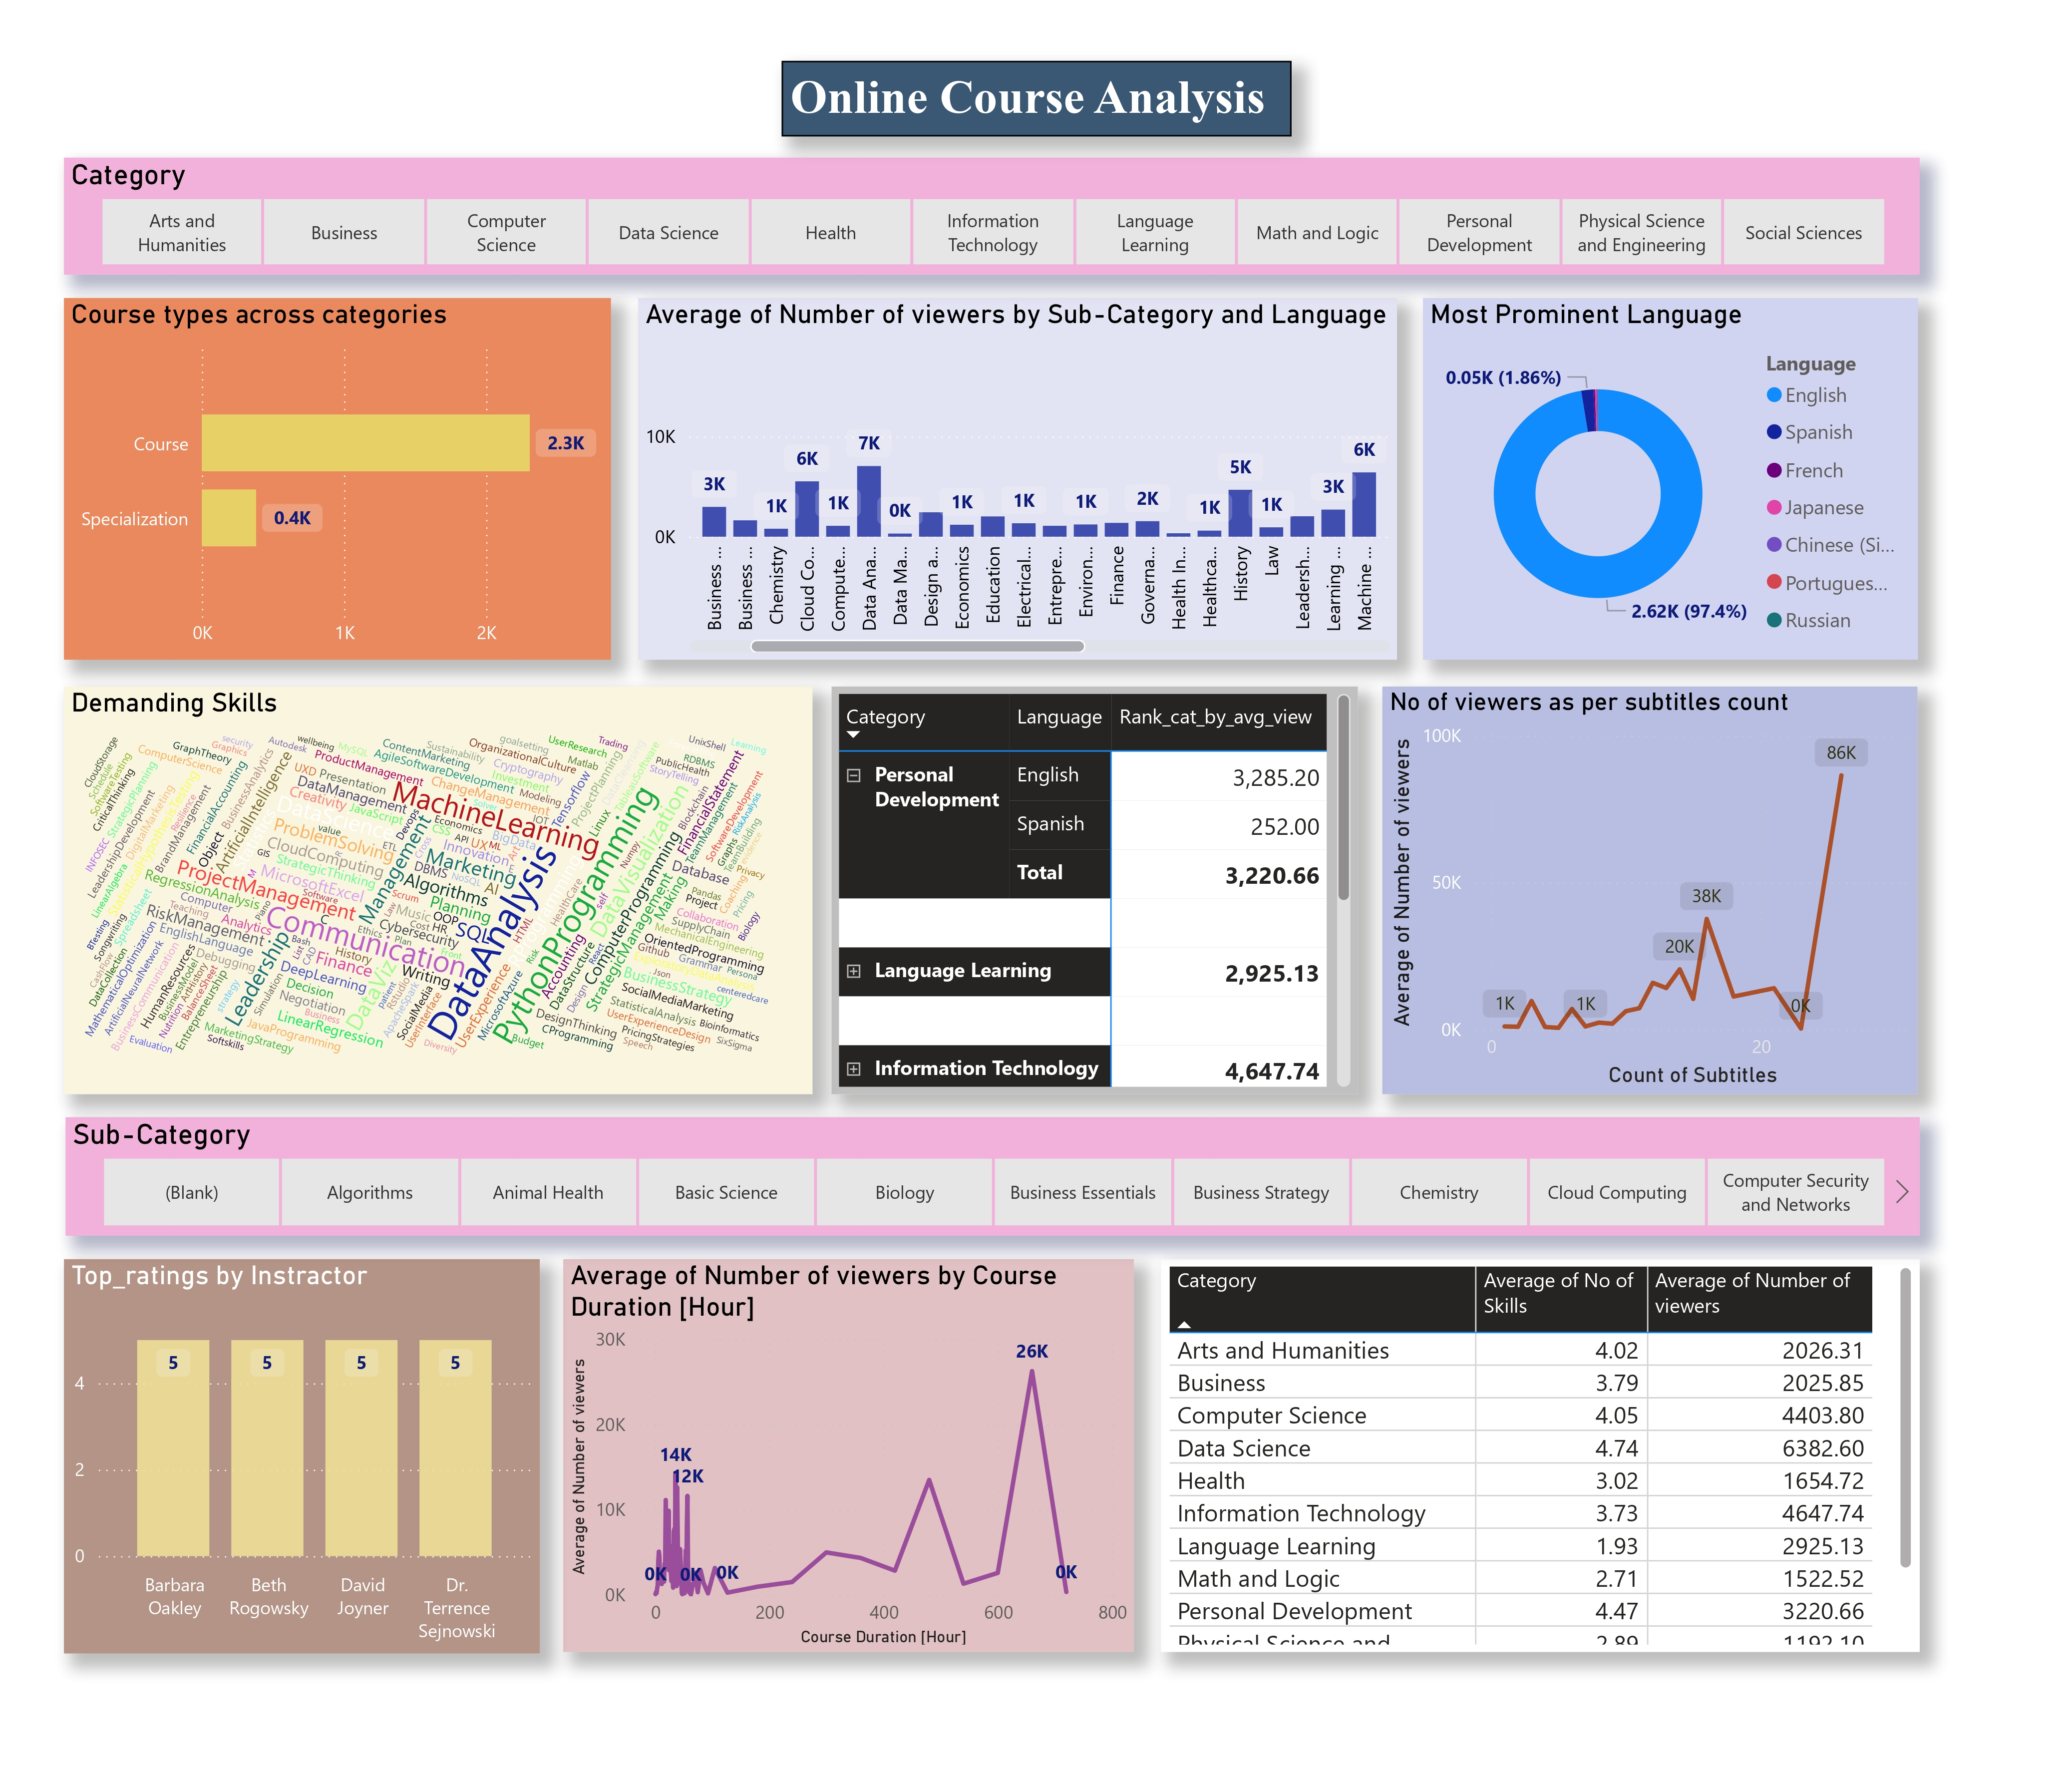

What the dashboard file says about the page in this screenshot:
{"tool":"powerbi","page":{"name":"Page 1","canvas":[1280,1100],"ordinal":0},"visuals":[{"type":"textbox","box":[502.6,15.6,343.7,50.9],"z":0},{"type":"slicer","title":"Category","fields":{"Values":["Online_Courses.Category"]},"box":[17.9,81.1,1251.6,78.9],"z":1000},{"type":"barChart","title":"Course types across categories ","fields":{"Category":["Online_Courses.Course Type"],"Y":["CountNonNull(Online_Courses.course id)"]},"box":[17.9,175.8,369.5,244.2],"z":2000},{"type":"columnChart","title":"Average of Number of viewers by Sub-Category and Language","fields":{"Category":["Online_Courses.Sub-Category","Online_Courses.Language"],"Y":["Avg(Online_Courses.Number of viewers)"]},"box":[404.9,175.5,511.9,244],"z":3000},{"type":"WordCloud1447959067750","title":"Demanding Skills","fields":{"Category":["Online_Courses.Skills"]},"box":[17.9,437.9,505.3,274.7],"z":4000},{"type":"donutChart","title":"Most Prominent Language","fields":{"Category":["Online_Courses.Language"],"Y":["CountNonNull(Online_Courses.course id)"]},"box":[934.5,175.5,334.3,244],"z":5000},{"type":"pivotTable","fields":{"Rows":["Online_Courses.Category","Online_Courses.Language"],"Values":["Online_Courses.Rank_cat_by_avg_view"]},"box":[535.8,437.9,354.7,274.7],"z":6000},{"type":"lineChart","title":"No of viewers as per subtitles count","fields":{"Category":["Online_Courses.Count of Subtitles"],"Y":["Avg(Online_Courses.Number of viewers)","select"]},"box":[907.4,437.9,361.1,274.7],"z":7000},{"type":"slicer","title":"Sub-Category ","fields":{"Values":["Online_Courses.Sub-Category"]},"box":[18.9,728.4,1250.5,80],"z":8000},{"type":"clusteredColumnChart","fields":{"Category":["Teachers.Instractor"],"Y":["Teachers.Top_ratings"]},"box":[17.9,824.2,321.1,266.3],"z":9000},{"type":"lineChart","fields":{"Category":["Online_Courses.Course Duration [Hour]"],"Y":["Avg(Online_Courses.Number of viewers)"]},"box":[354.7,824.2,385.3,265.3],"z":10000},{"type":"tableEx","fields":{"Values":["Online_Courses.Category","Online_Courses.No of Skills","Online_Courses.Number of viewers"]},"box":[757.9,824.2,511.6,265.3],"z":11000}]}

Visuals, with their boxes on the page's 1280x1100 design canvas (x1, y1, x2, y2). These are canvas units, not pixel positions in the 2072x1791 screenshot, which may show the page scaled, cropped or inside an application window:
textbox: 503,16,846,66
"Category" slicer: 18,81,1270,160
"Course types across categories " barChart: 18,176,387,420
"Average of Number of viewers by Sub-Category and Language" columnChart: 405,176,917,420
"Demanding Skills" WordCloud1447959067750: 18,438,523,713
"Most Prominent Language" donutChart: 934,176,1269,420
pivotTable - Online_Courses.Category x Online_Courses.Language: 536,438,890,713
"No of viewers as per subtitles count" lineChart: 907,438,1268,713
"Sub-Category " slicer: 19,728,1269,808
clusteredColumnChart - Teachers.Instractor x Teachers.Top_ratings: 18,824,339,1090
lineChart - Online_Courses.Course Duration [Hour] x Avg(Online_Courses.Number of viewers): 355,824,740,1090
tableEx - Online_Courses.Category x Online_Courses.No of Skills: 758,824,1270,1090
